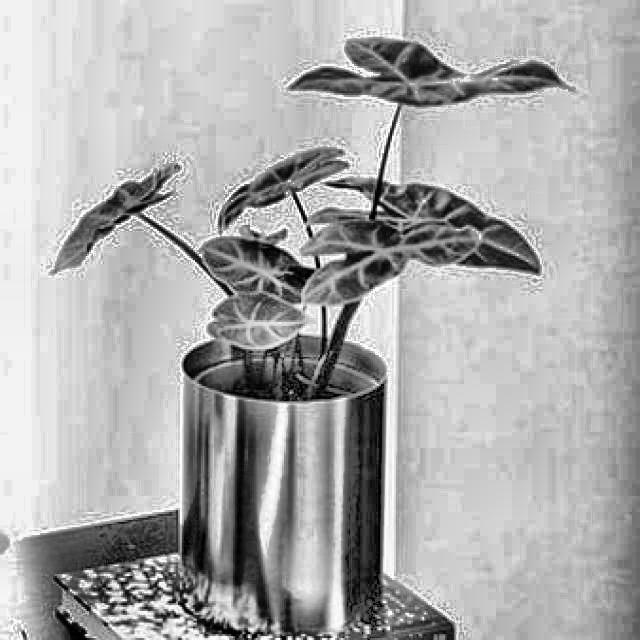plants: (36, 24, 568, 632)
